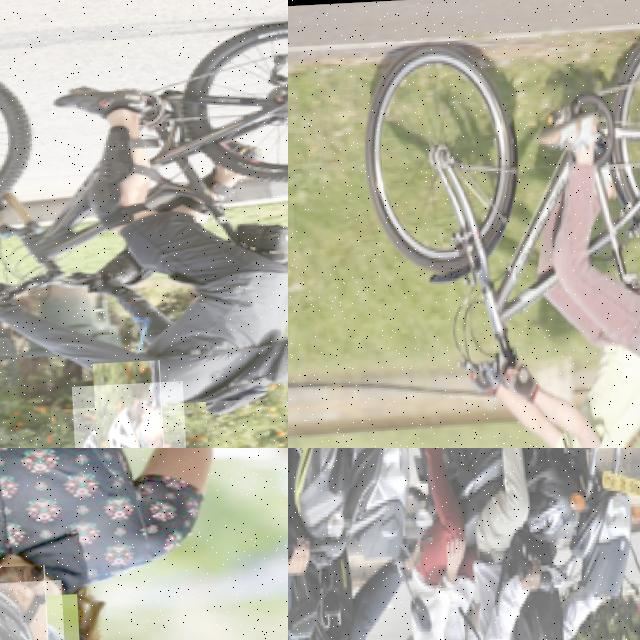helmet: (70, 380, 187, 448)
